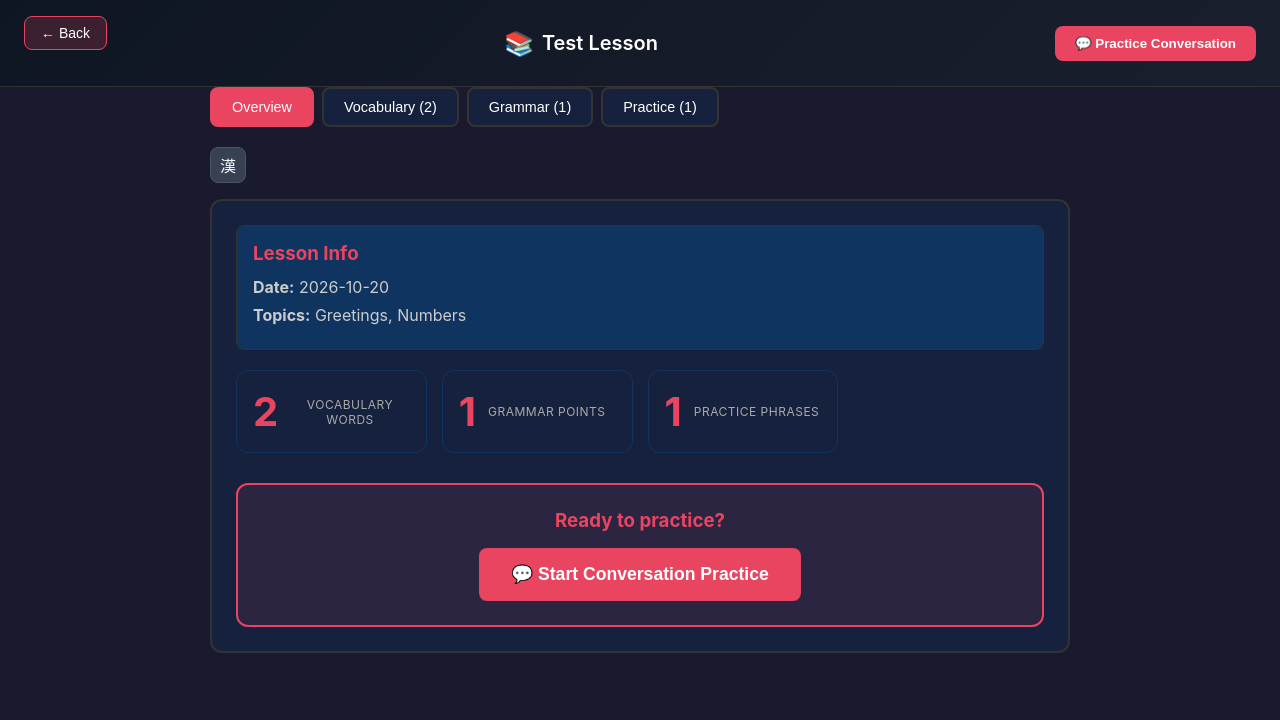
LessonDetailView › tabs › switches to the vocabulary tab when clicked
Click the button "Vocabulary (2)".
click(390, 107)  # box [322,87,459,127]
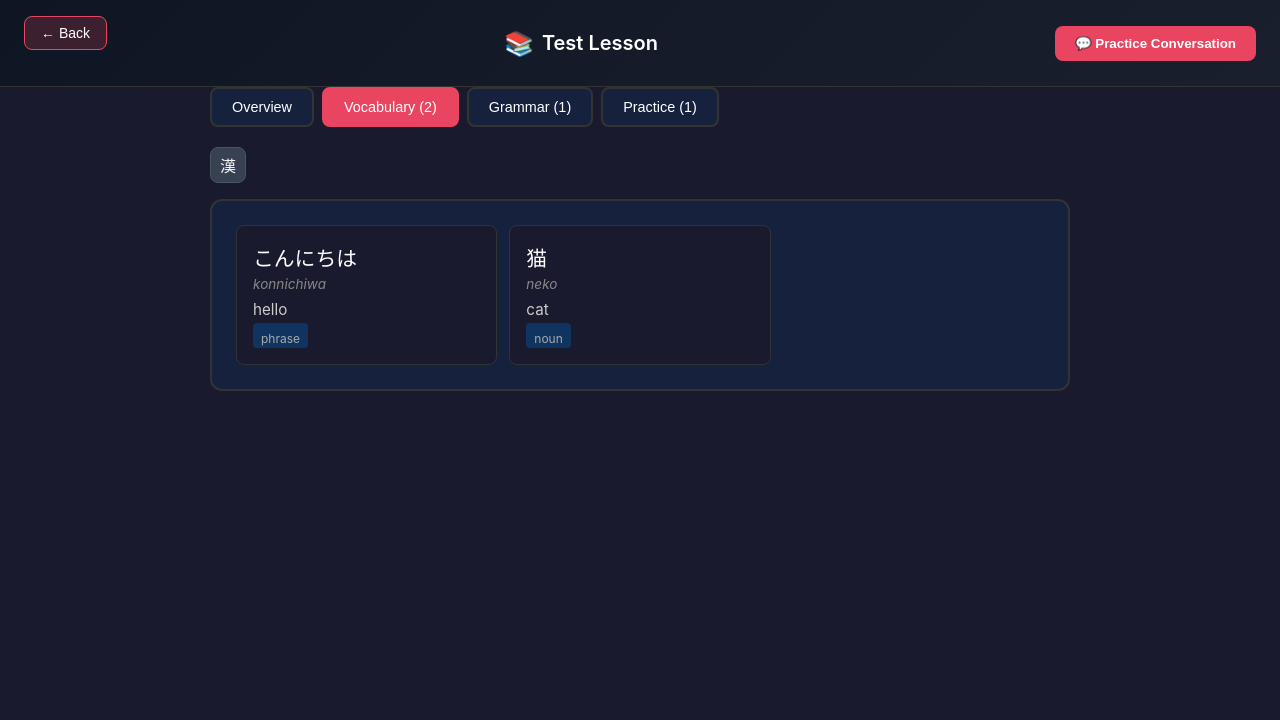
Expected: the text "konnichiwa" is shown, [253,276,326,292]
Expected: the text "hello" is shown, [253,300,287,319]
Expected: the text "cat" is shown, [526,300,549,319]
